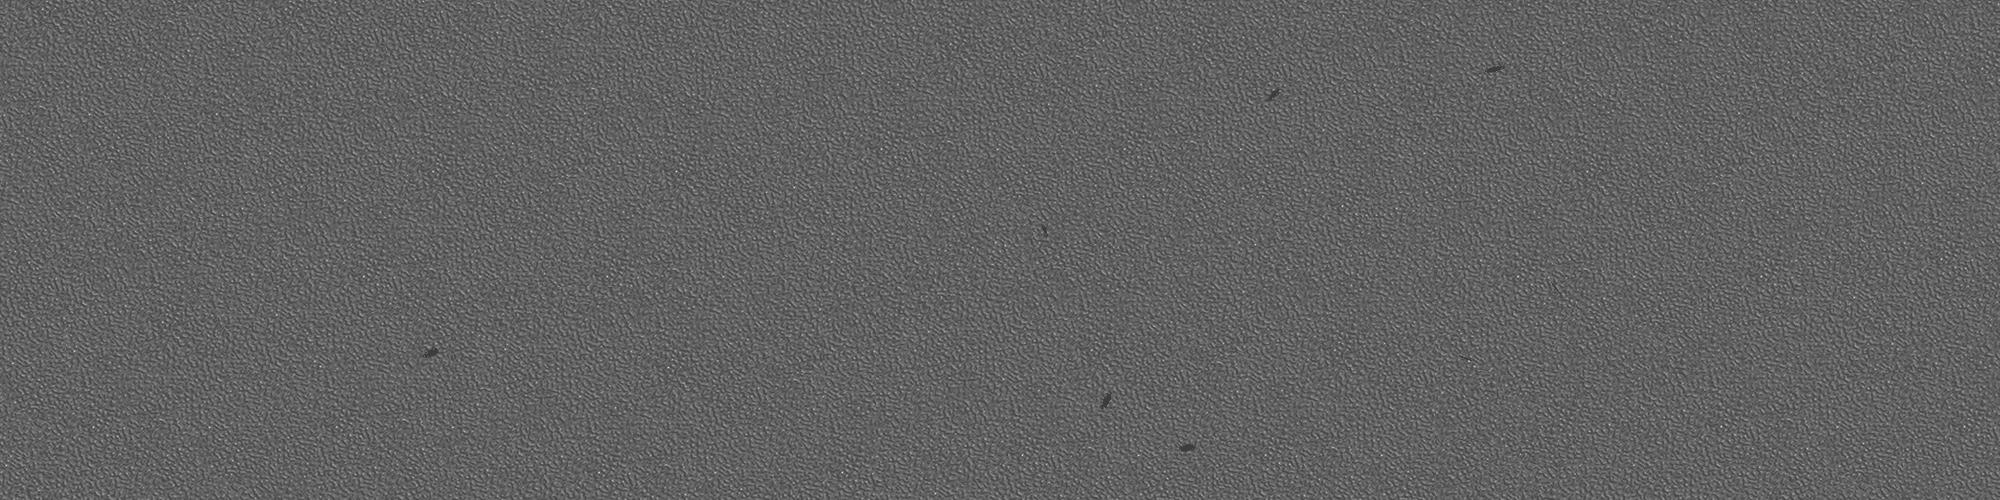Decomposed: (418, 335, 446, 364), (1261, 80, 1288, 108), (1482, 57, 1509, 82), (1094, 390, 1117, 413), (1177, 440, 1198, 457), (1034, 224, 1052, 235)
